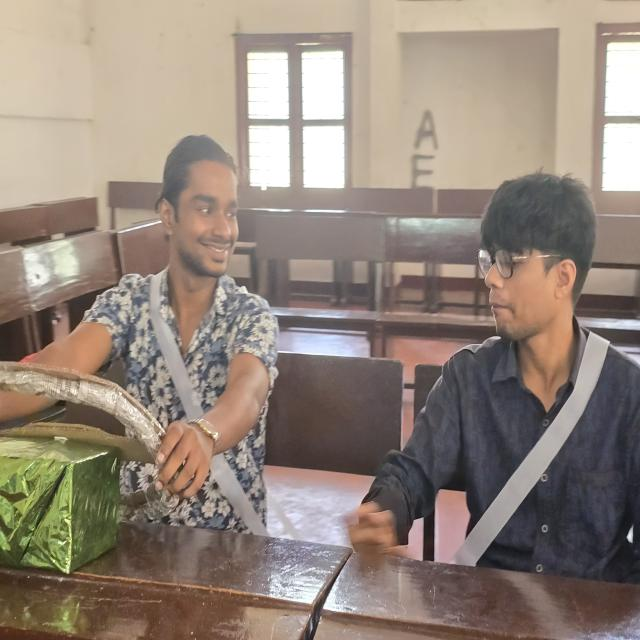seatbelt: (123, 274, 280, 538), (443, 335, 613, 572)
